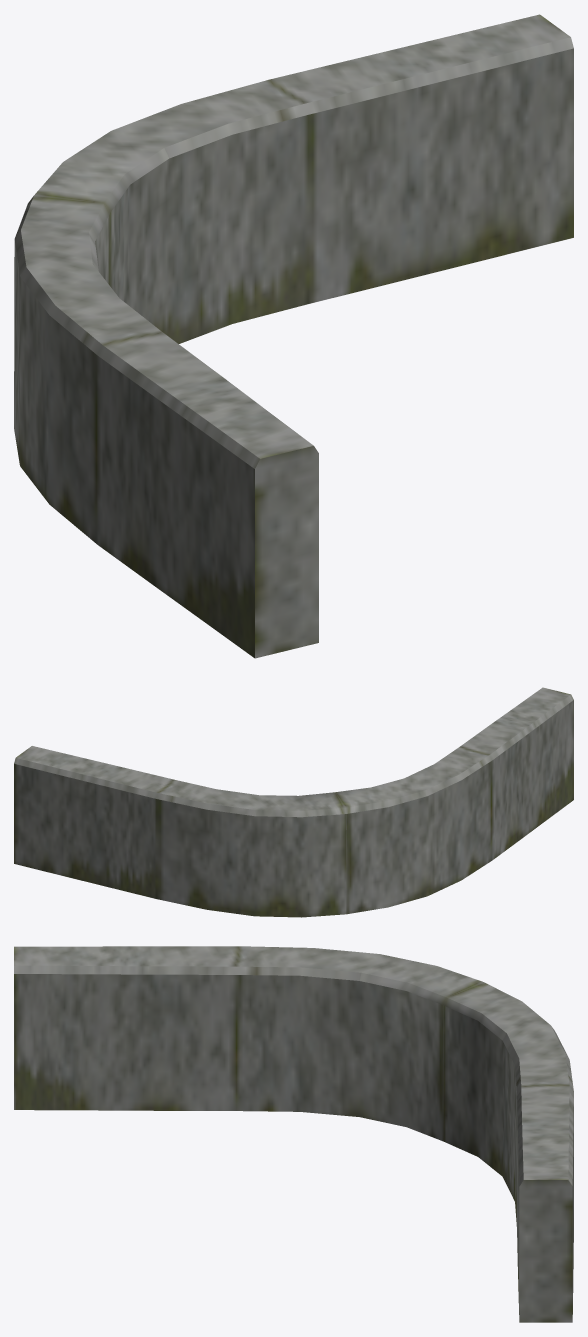
The model's file is stone_wall_curve.fbx.
3 views of the same model, one above another, from view 1: azimuth 30°, elevation 25°; view 2: azimuth 150°, elevation 25°; view 3: azimuth 270°, elevation 25° (orthographic). The views are drawn at different scales.
Parts seen in each view (by area): view 1: stone_wall_curve; view 2: stone_wall_curve; view 3: stone_wall_curve.
Boxes of the visible parts, x1,y1,x2,y2 form: stone_wall_curve: (14,14,573,658); stone_wall_curve: (14,687,573,917); stone_wall_curve: (14,946,573,1322).
Size of the model in its own units: 209 by 59.04 by 210.
